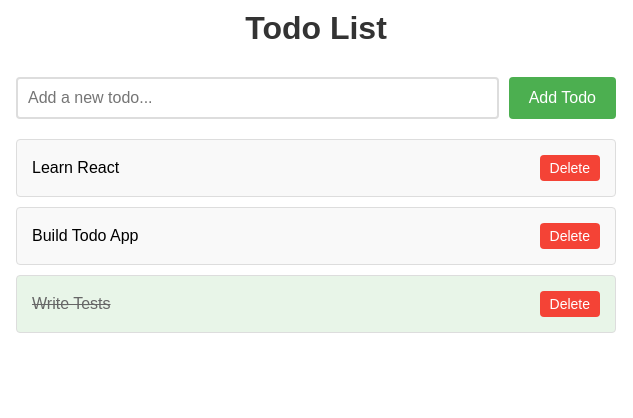
Test: TodoList Component › adds a new todo when form is submitted
The width and height of the screenshot is (633, 418).
Type "New Todo Item" into the field with placeholder "Add a new todo..." at (257, 98), box [16, 77, 499, 119]
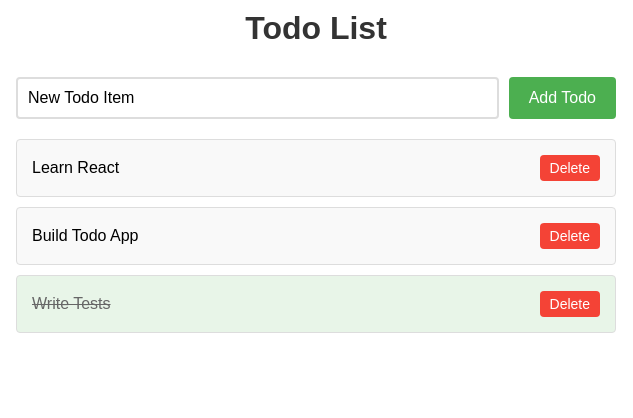
Click the button "Add Todo" at (562, 98), box [509, 77, 616, 119]
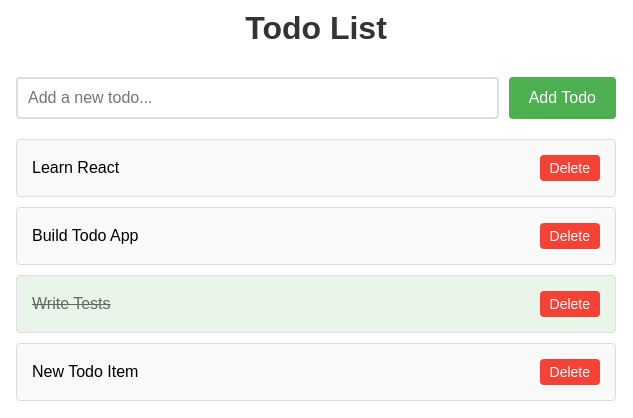
Now the text "New Todo Item" is shown, box [32, 363, 138, 380]
Now the number of list items is 4, box [16, 139, 616, 197]; [16, 207, 616, 265]; [16, 275, 616, 333]; [16, 343, 616, 401]
Now the field with placeholder "Add a new todo..." is empty, box [16, 77, 499, 119]
